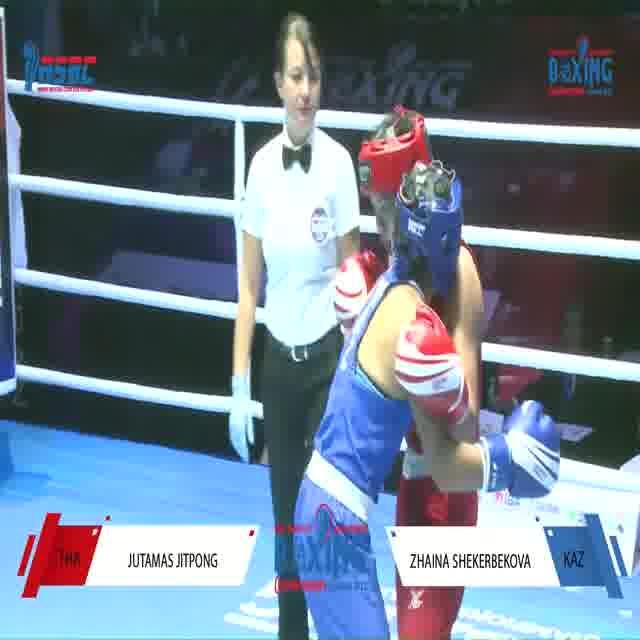blue-player: (292, 157, 562, 640)
red-player: (330, 105, 488, 640)
referee: (227, 6, 367, 640)
